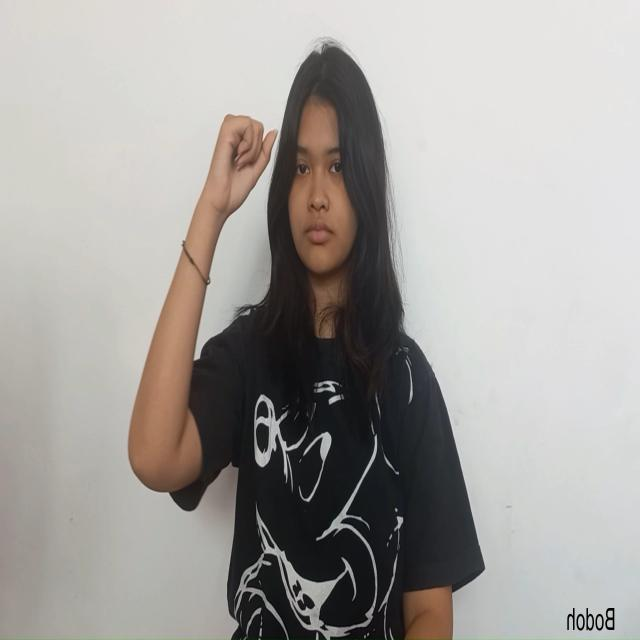Bodoh -BISINDO-: (202, 110, 279, 226)
